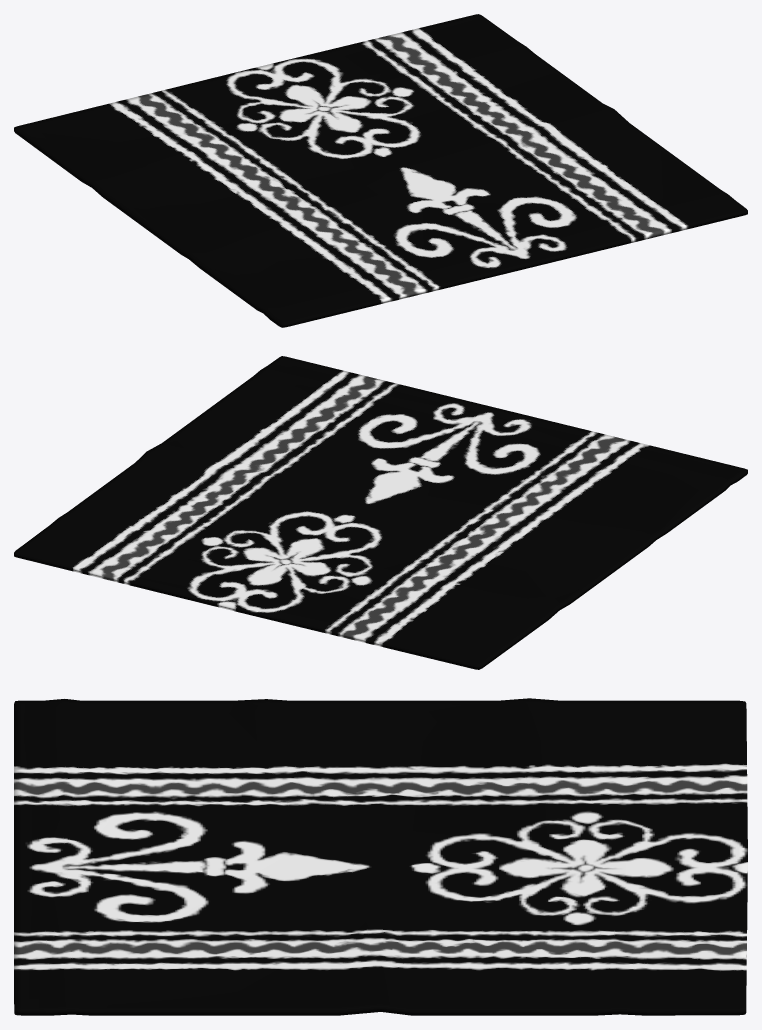
The model's file is SM_Carpet_D.fbx.
The picture shows the model from 3 angles, top to bottom: view 1: azimuth 30°, elevation 25°; view 2: azimuth 150°, elevation 25°; view 3: azimuth 270°, elevation 25°; orthographic projection. The views are drawn at different scales.
Parts seen in each view (by area): view 1: SM_Carpet_D_LOD0; view 2: SM_Carpet_D_LOD0; view 3: SM_Carpet_D_LOD0.
Boxes of the visible parts, left/top/right/bottom form: SM_Carpet_D_LOD0: left=14, top=14, right=747, bottom=327; SM_Carpet_D_LOD0: left=14, top=356, right=747, bottom=669; SM_Carpet_D_LOD0: left=14, top=698, right=747, bottom=1015.
Size of the model in its own units: 250 by 250 by 3.27.
